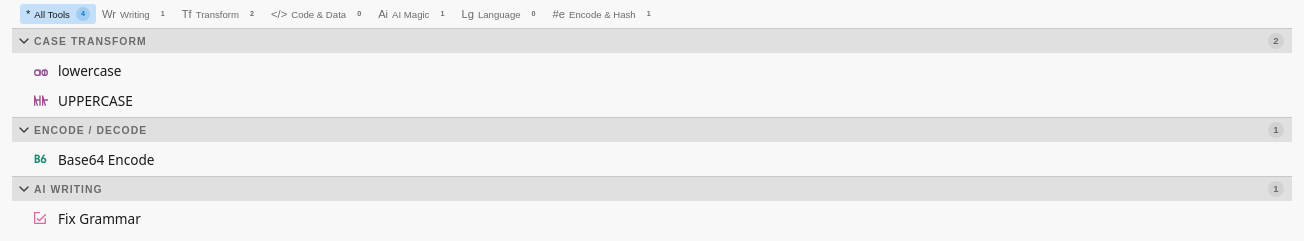
Scenario: ToolPanel › collapses group when group header is clicked
Click on Case Transform header to collapse
Click the button "Case Transform 2" at (90, 41), box [12,29,1292,53]
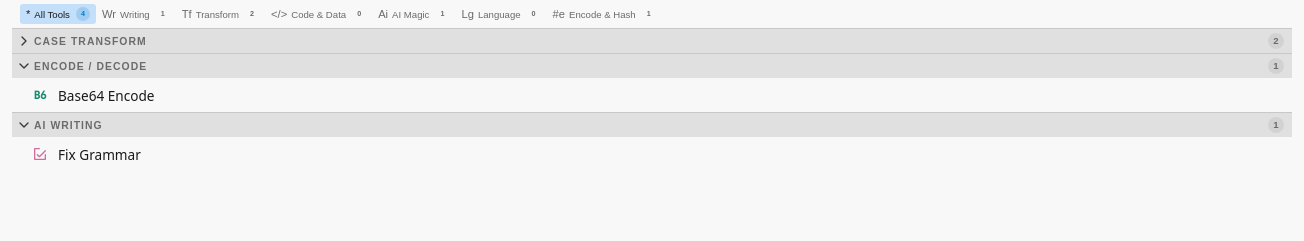
Expected: the button with class "tu-group-header--collapsed" is shown, [12,29,1292,53]
